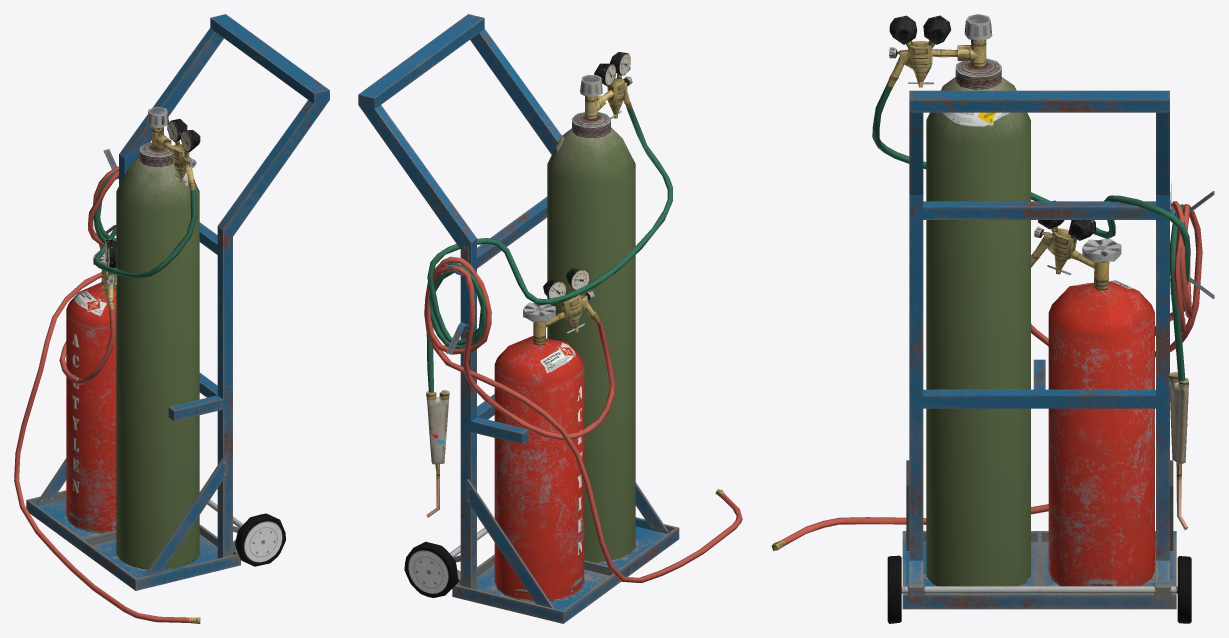
Rendered from welderset_reference_001.fbx.
3 renders of one model, left to right at view 1: azimuth 30°, elevation 25°; view 2: azimuth 150°, elevation 25°; view 3: azimuth 270°, elevation 25°, orthographic. The views are drawn at different scales.
Visible parts, largest first — view 1: welderset_reference.001; view 2: welderset_reference.001; view 3: welderset_reference.001.
Part boxes in pixels (<box>): welderset_reference.001: <box>14,14,329,623</box>; welderset_reference.001: <box>358,14,742,623</box>; welderset_reference.001: <box>771,14,1214,623</box>.
Bounding box in the file's own units: 78.72 × 147 × 104.
